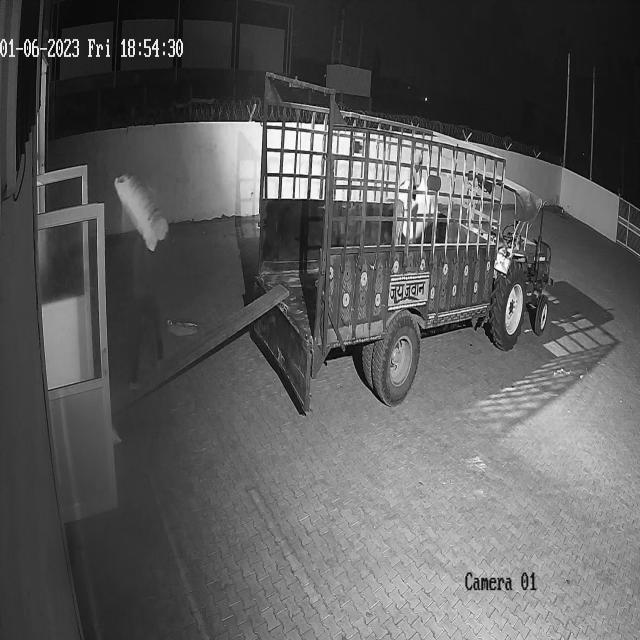sack: (114, 172, 168, 252)
